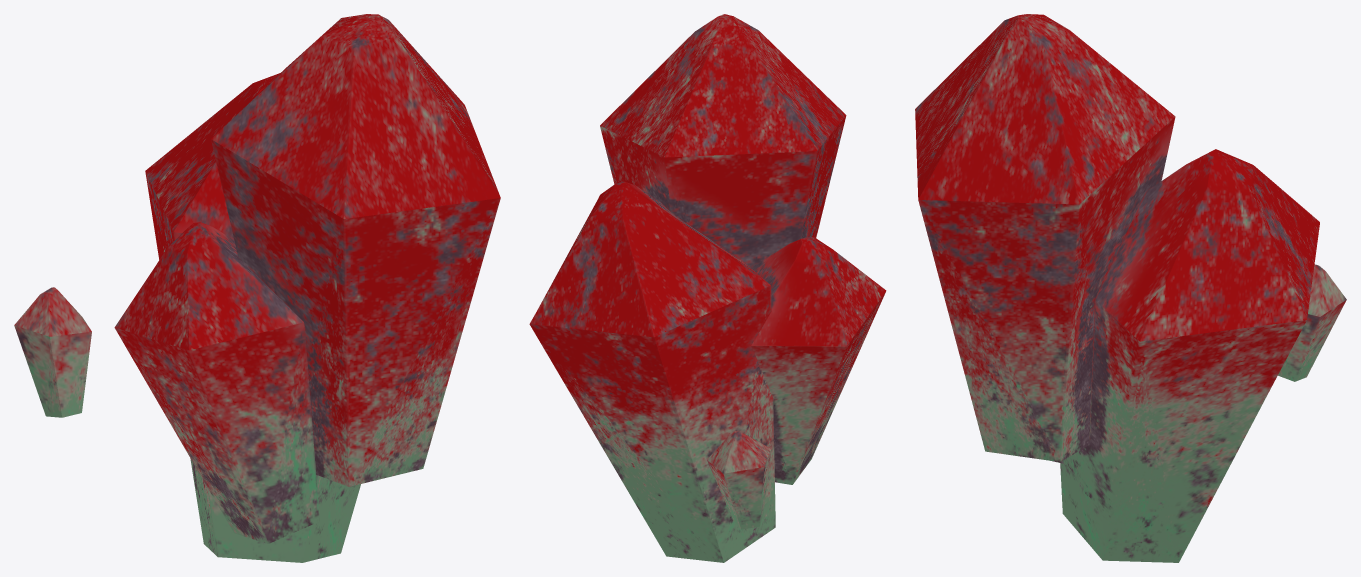
File: cristales.glb
3 renders of one model, left to right at view 1: azimuth 30°, elevation 25°; view 2: azimuth 150°, elevation 25°; view 3: azimuth 270°, elevation 25°, orthographic. The views are drawn at different scales.
Parts seen in each view (by area): view 1: Object_2; view 2: Object_2; view 3: Object_2.
Part boxes in pixels (x1,y1,x2,y2): Object_2: (14, 14, 500, 562); Object_2: (529, 14, 886, 562); Object_2: (915, 14, 1346, 562).
Size of the model in its own units: 1.26 by 2.14 by 1.53.
1 material, 1 textured.
